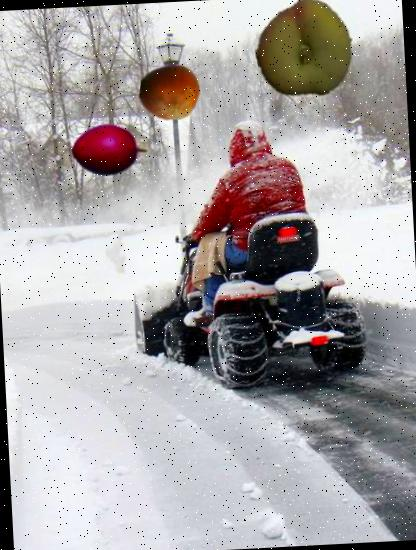Nut: (139, 60, 202, 123)
Peach: (253, 0, 357, 101)
Tamarillo: (72, 111, 148, 188)
